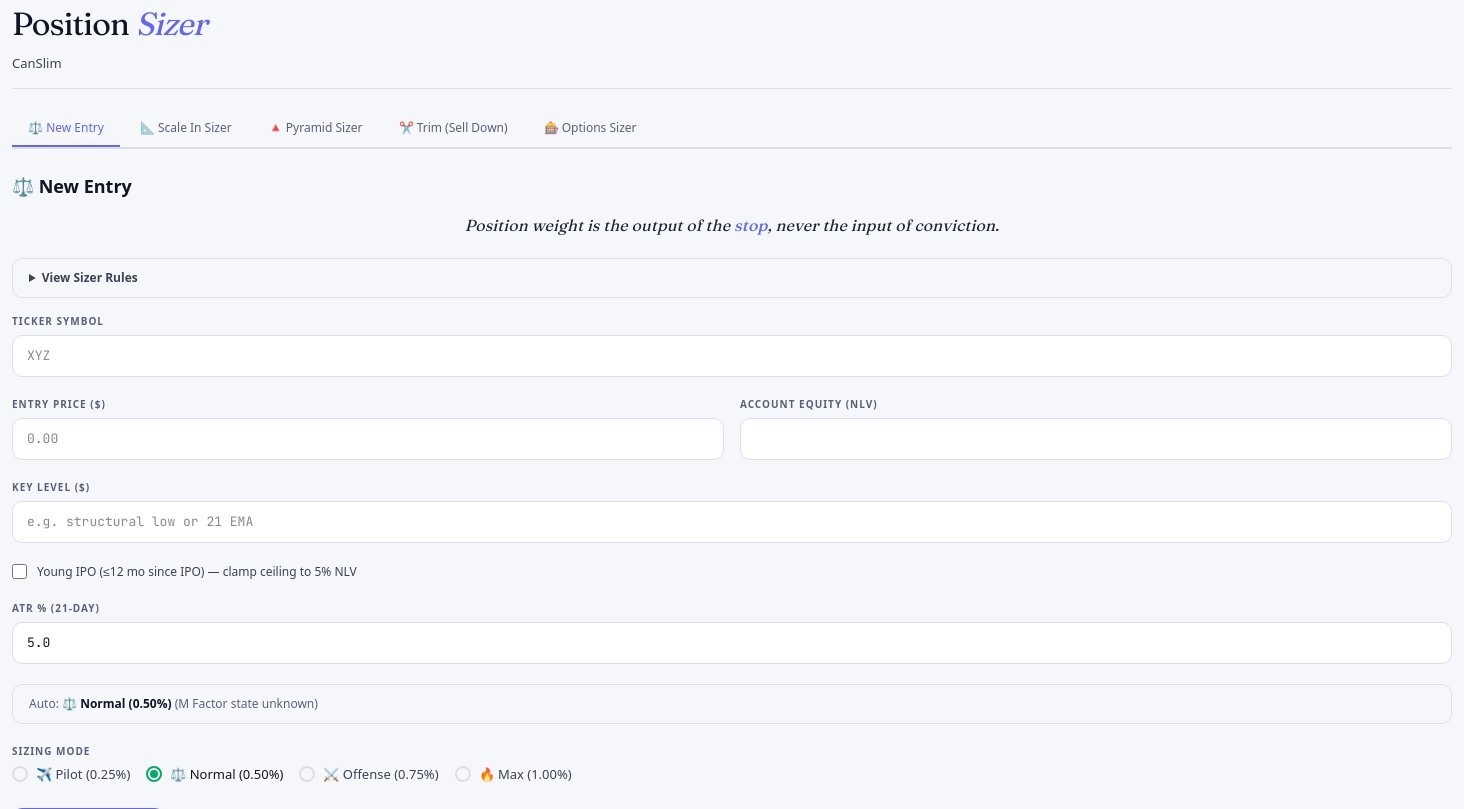
Test case: PositionSizer — MCT-driven sizing mode › 'Reset to auto' restores MCT-driven mode
Override to Pilot first (was Defense pre-retier)
Click the text "✈️ Pilot (0.25%)": x=83, y=774 [36, 764, 130, 784]
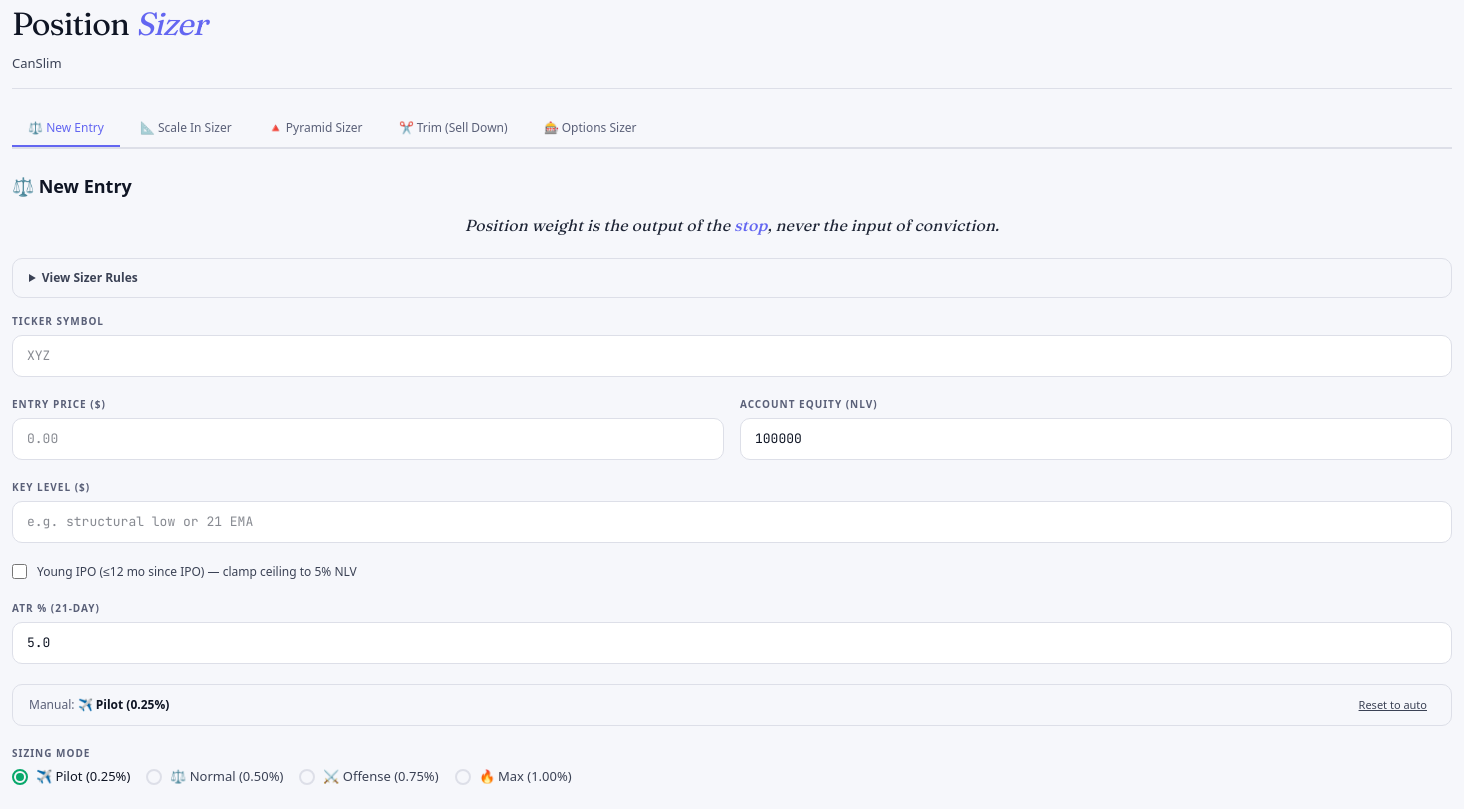
Click the button with test id "sizer-reset-to-auto": x=1393, y=705 [1351, 694, 1435, 715]
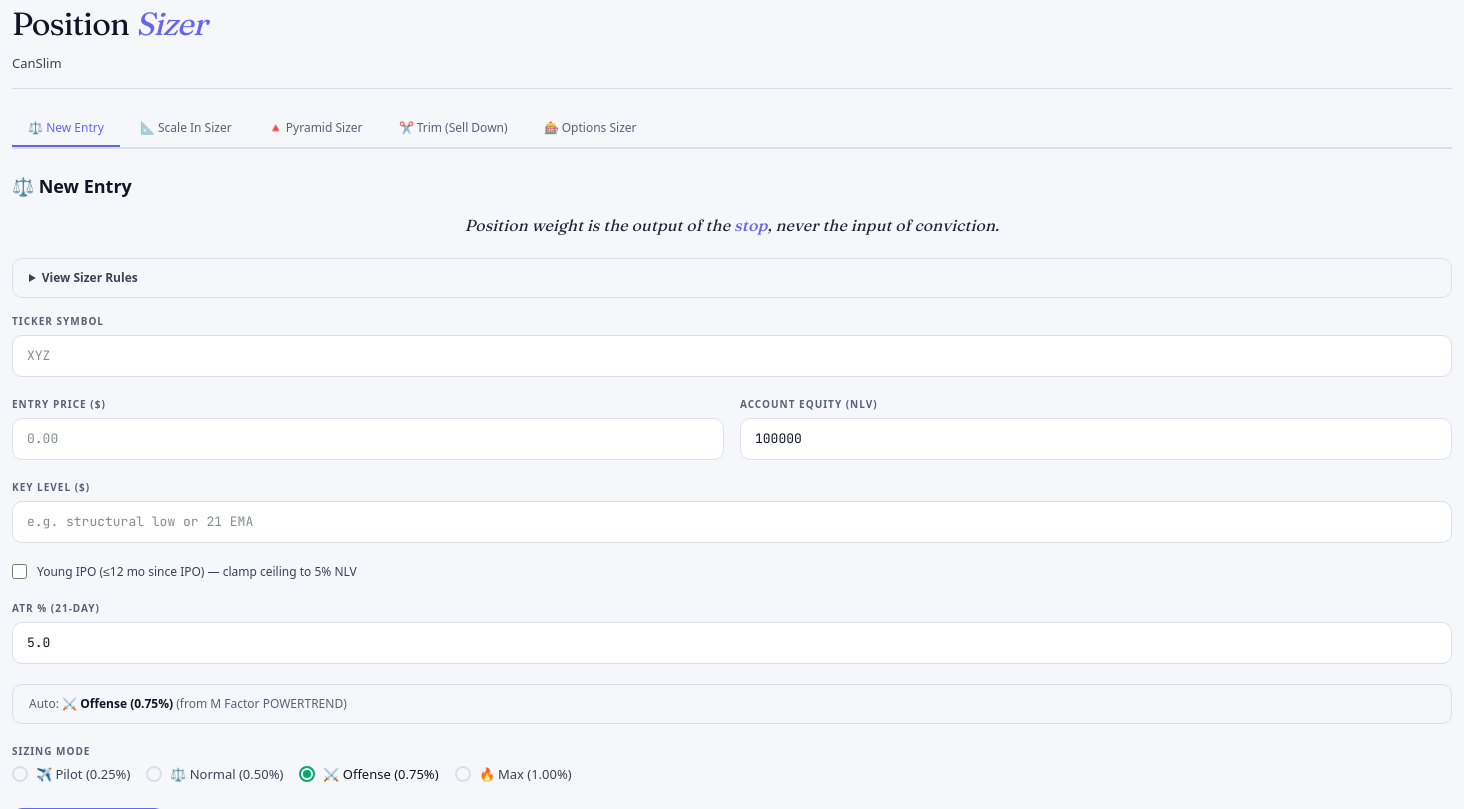
Result: the element with test id "sizer-mode-indicator" shows "Auto:" at [29, 694, 59, 712]
Result: the element with test id "sizer-mode-indicator" shows "Offense (0.75%)" at [62, 694, 173, 712]
Result: the element with test id "sizer-mode-indicator" shows "from M Factor POWERTREND" at [180, 694, 343, 712]
